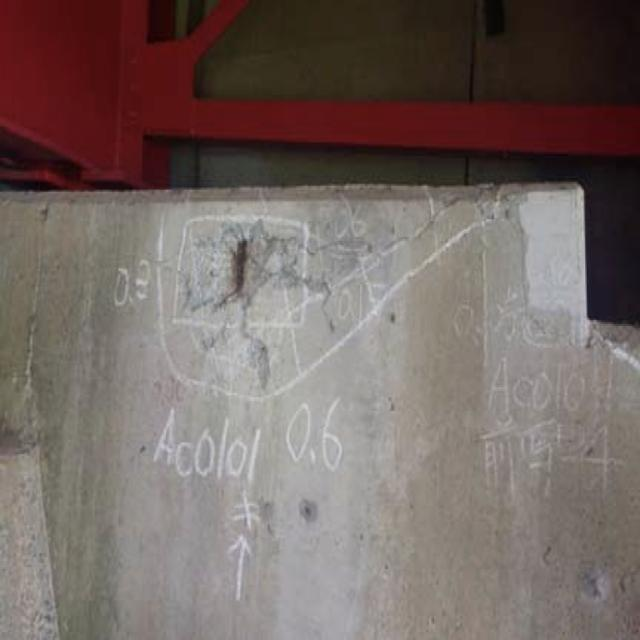spalling: (152, 205, 344, 368)
